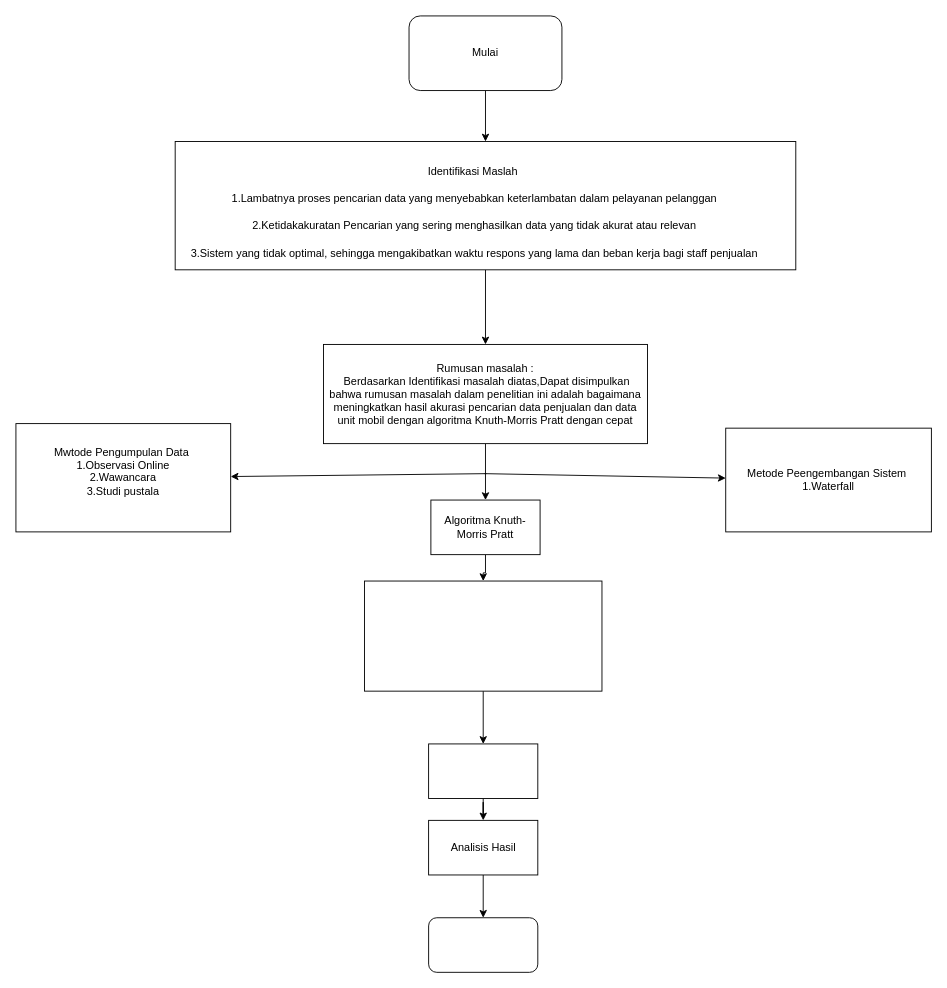
This 947x988 diagram has some shape labels left out. Each missing label, with the centre of its shape:
"1.Analisis 2.Implementasi algoritma Knuth-Morris pratt 3.Testing 4.Maintenance" goes at (483,635).
"Pengujian" goes at (483,771).
"Selesai" goes at (483,944).
